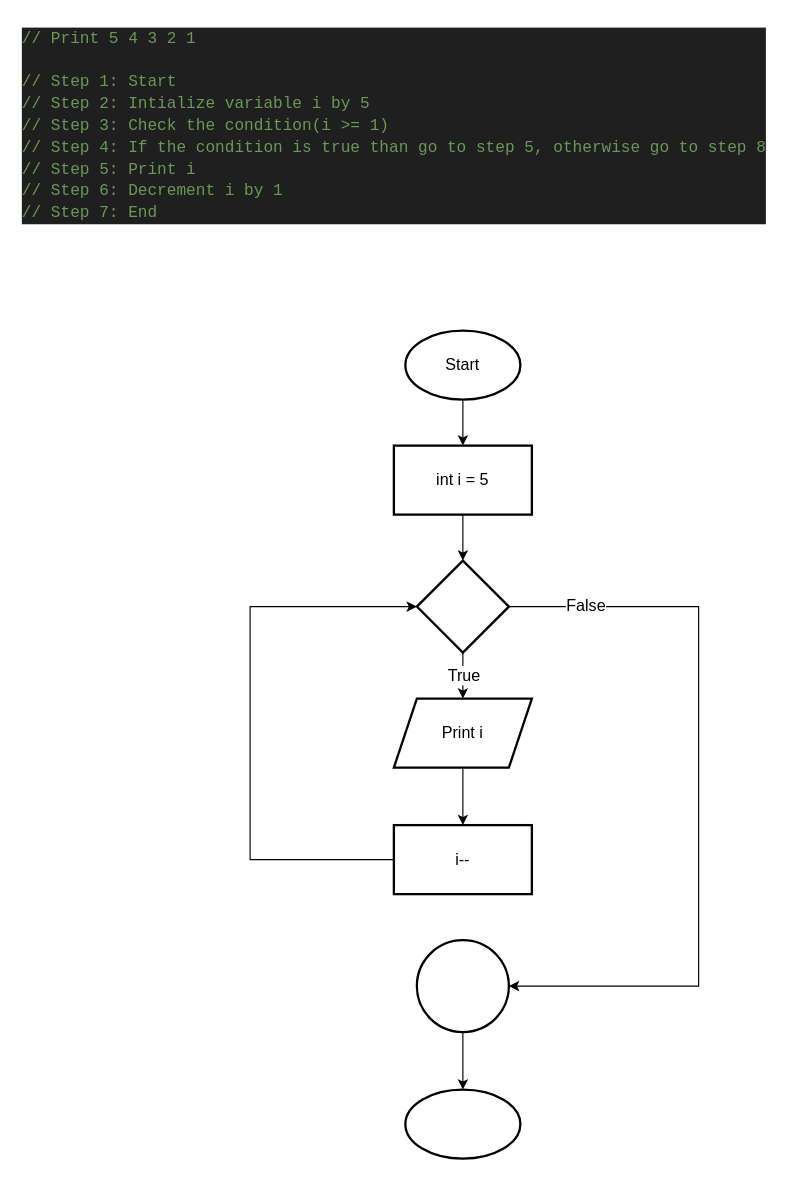
Some shapes in this 785 by 1179 pixel diagram are drawn without their labels. The shapes that lost their labels are listed below. From the top down, each one's box as (x1, y1, x2, y2) in pixels, then its label:
(415, 559, 509, 653): i >= 1
(404, 1088, 521, 1159): End
